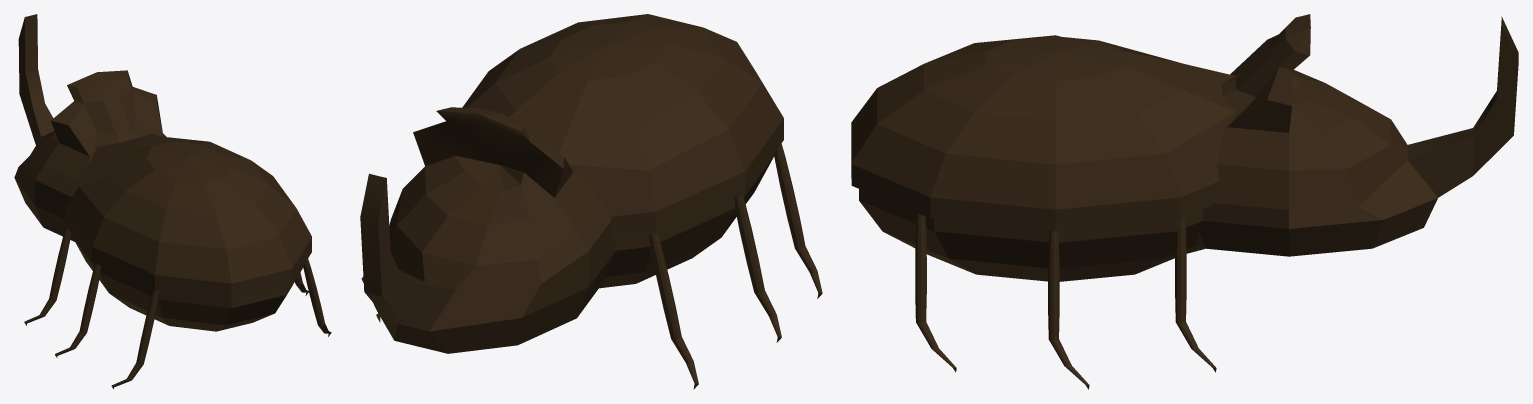
Rendered from hallie_beetle.fbx.
The picture shows the model from 3 angles, left to right: view 1: azimuth 30°, elevation 25°; view 2: azimuth 150°, elevation 25°; view 3: azimuth 270°, elevation 25°; orthographic projection. The views are drawn at different scales.
Visible parts, largest first — view 1: m_beetle; view 2: m_beetle; view 3: m_beetle.
Boxes of the visible parts, x1,y1,x2,y2 form: m_beetle: (14,14,331,389); m_beetle: (360,14,822,389); m_beetle: (851,14,1518,389).
Bounding box in the file's own units: 0.0668 × 0.0499 × 0.1066.
